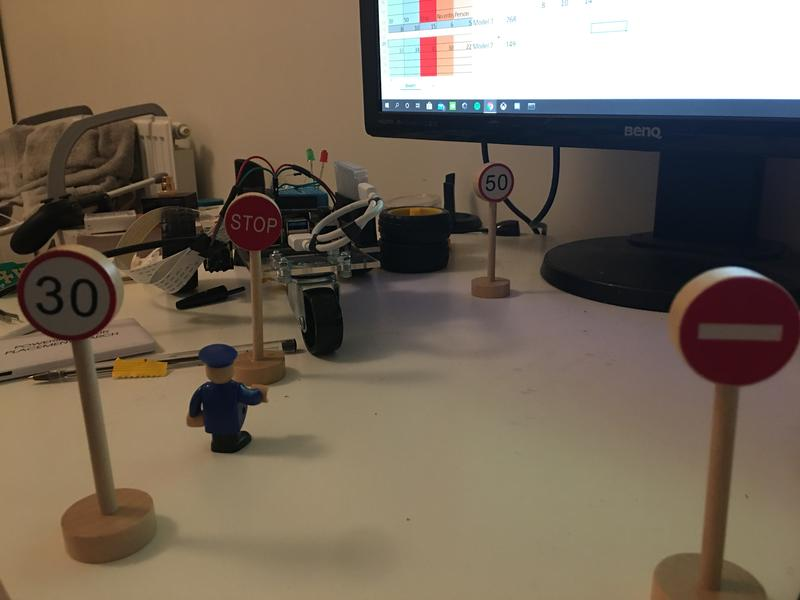Traffic_Sign_30: (20, 255, 114, 338)
Traffic_Sign_50: (477, 162, 514, 201)
Traffic_Sign_No_Entry: (683, 277, 800, 381)
Traffic_Sign_Stop: (225, 197, 282, 250)
person: (183, 343, 274, 458)
